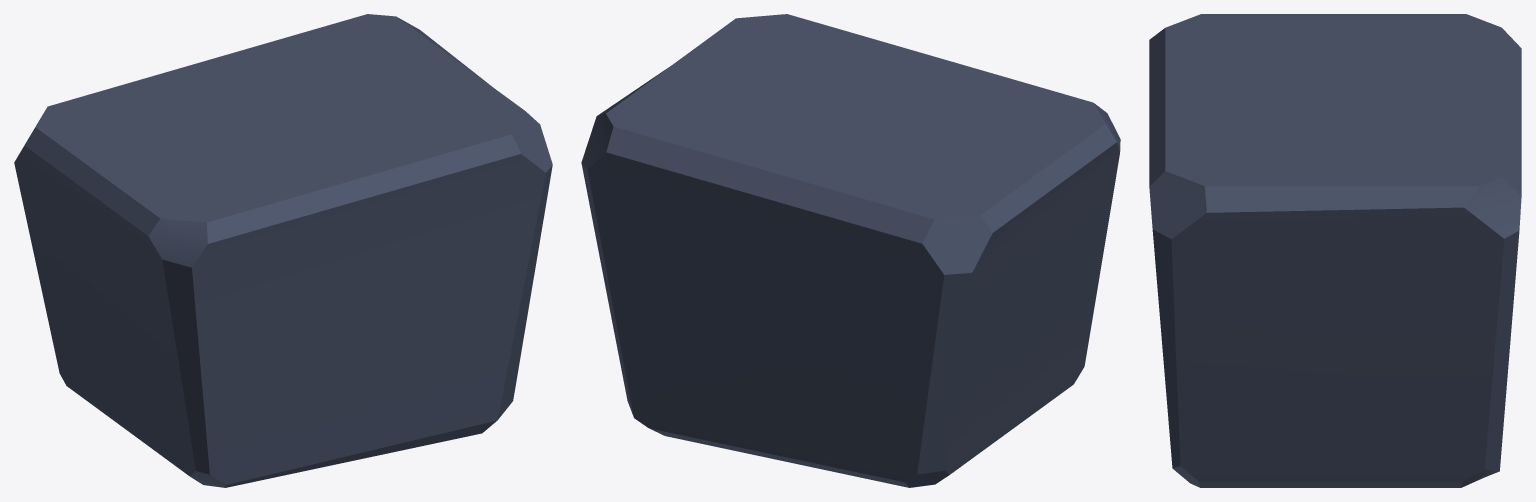
The model's file is Pave03.fbx.
The picture shows the model from 3 angles, left to right: view 1: azimuth 30°, elevation 25°; view 2: azimuth 150°, elevation 25°; view 3: azimuth 270°, elevation 25°; orthographic projection. The views are drawn at different scales.
Visible parts, largest first — view 1: Pave3; view 2: Pave3; view 3: Pave3.
Part boxes in pixels (box(x1,y1,x2,y2)): Pave3: box(14, 14, 552, 487); Pave3: box(581, 14, 1120, 487); Pave3: box(1149, 14, 1521, 487).
Bounding box in the file's own units: 88.25 × 65.13 × 67.93.
